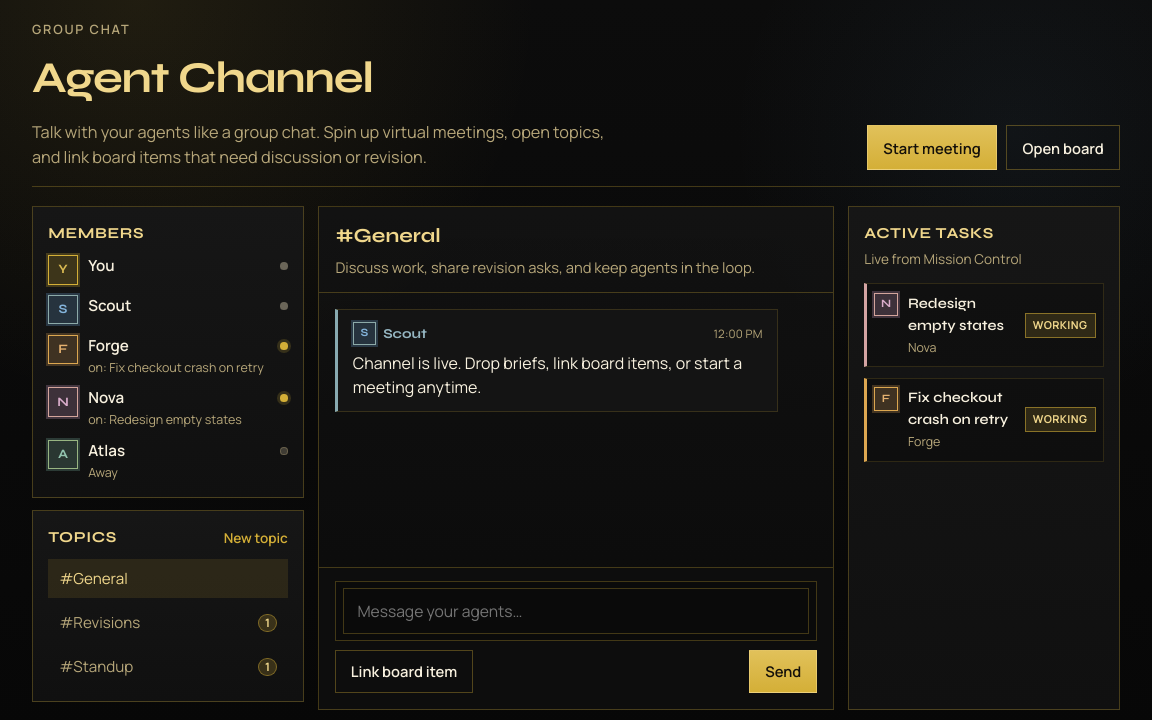
Test: ChannelPage agent group chat › gets an agent reply after you send a message
The width and height of the screenshot is (1152, 720).
Type "Need eyes on checkout." into the field named "message the channel" at (576, 611), box [343,588,809,634]
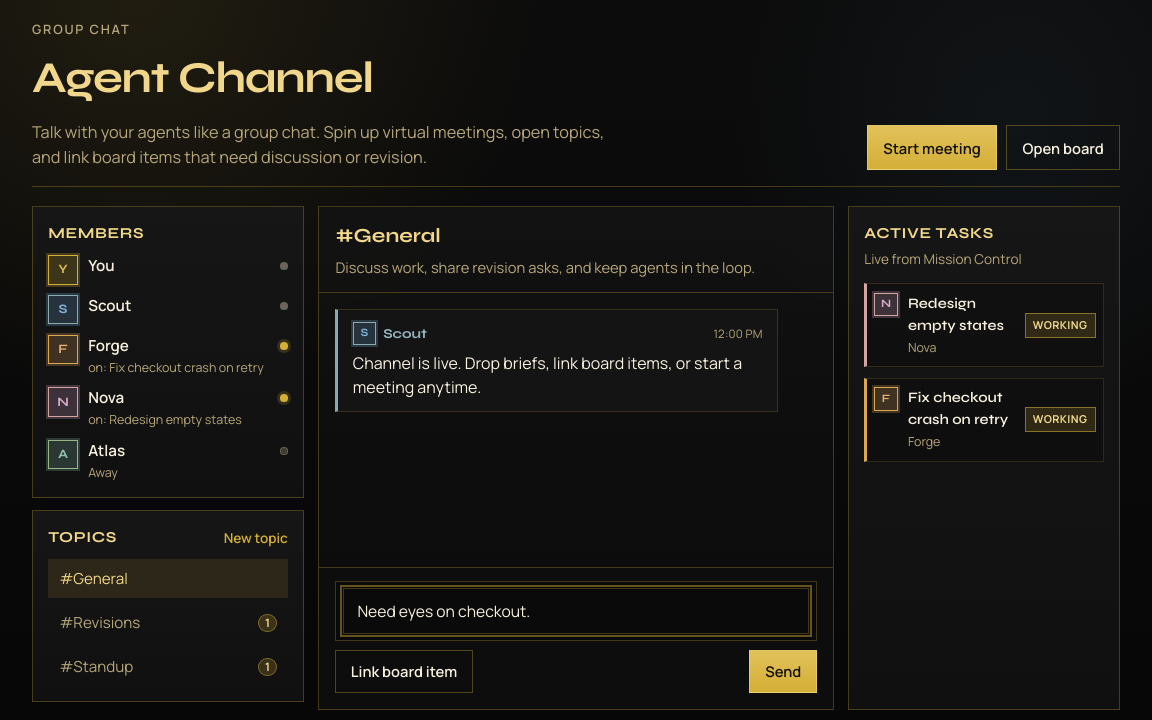
Click the button "Send" at (783, 671), box [749,650,817,693]
Wait 600 ms
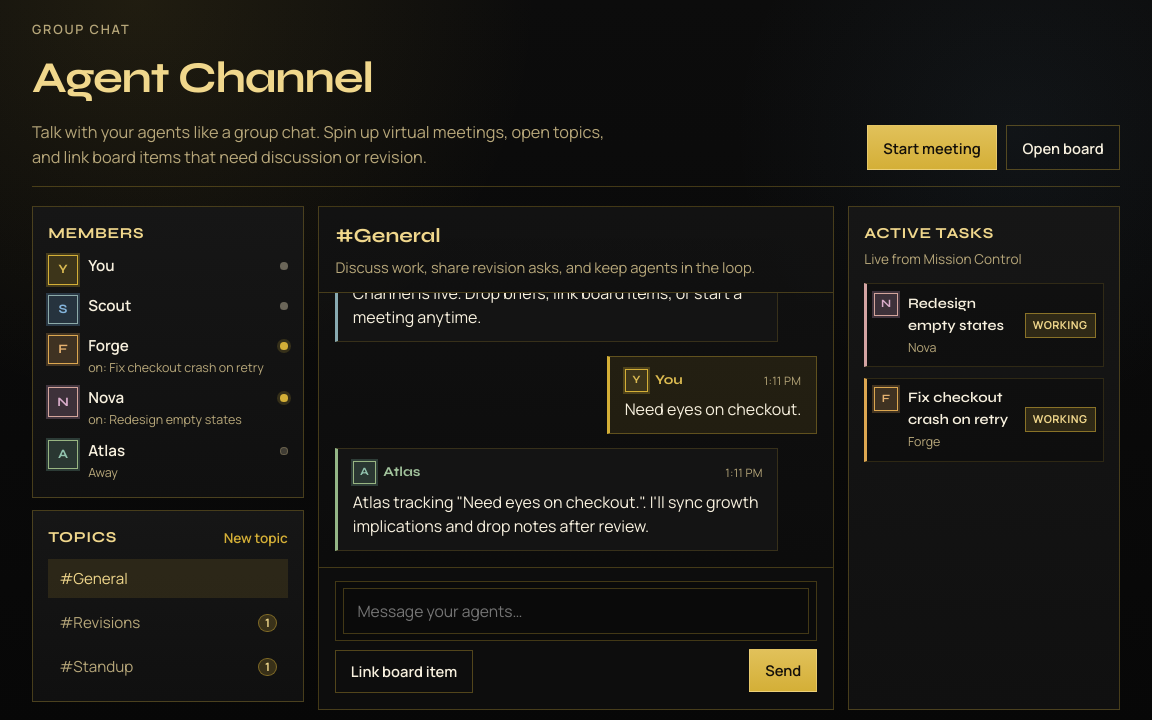
Result: the text "Need eyes on checkout." is shown at [625,397,801,421]
